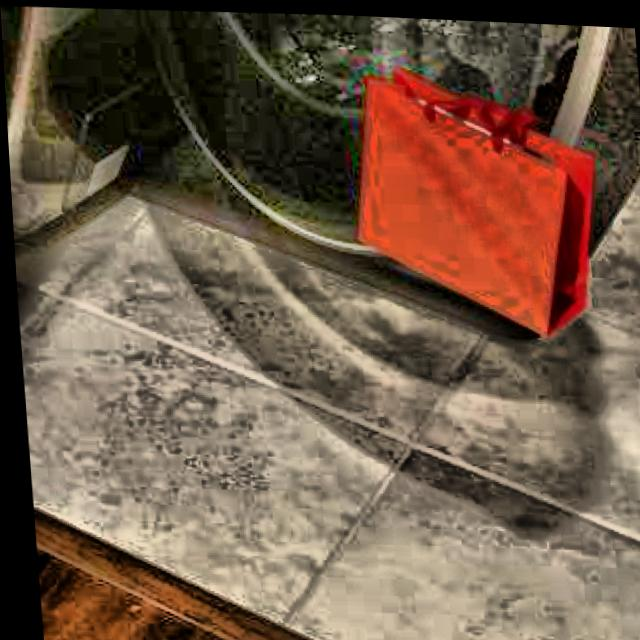Paper-bag: (329, 61, 616, 349)
